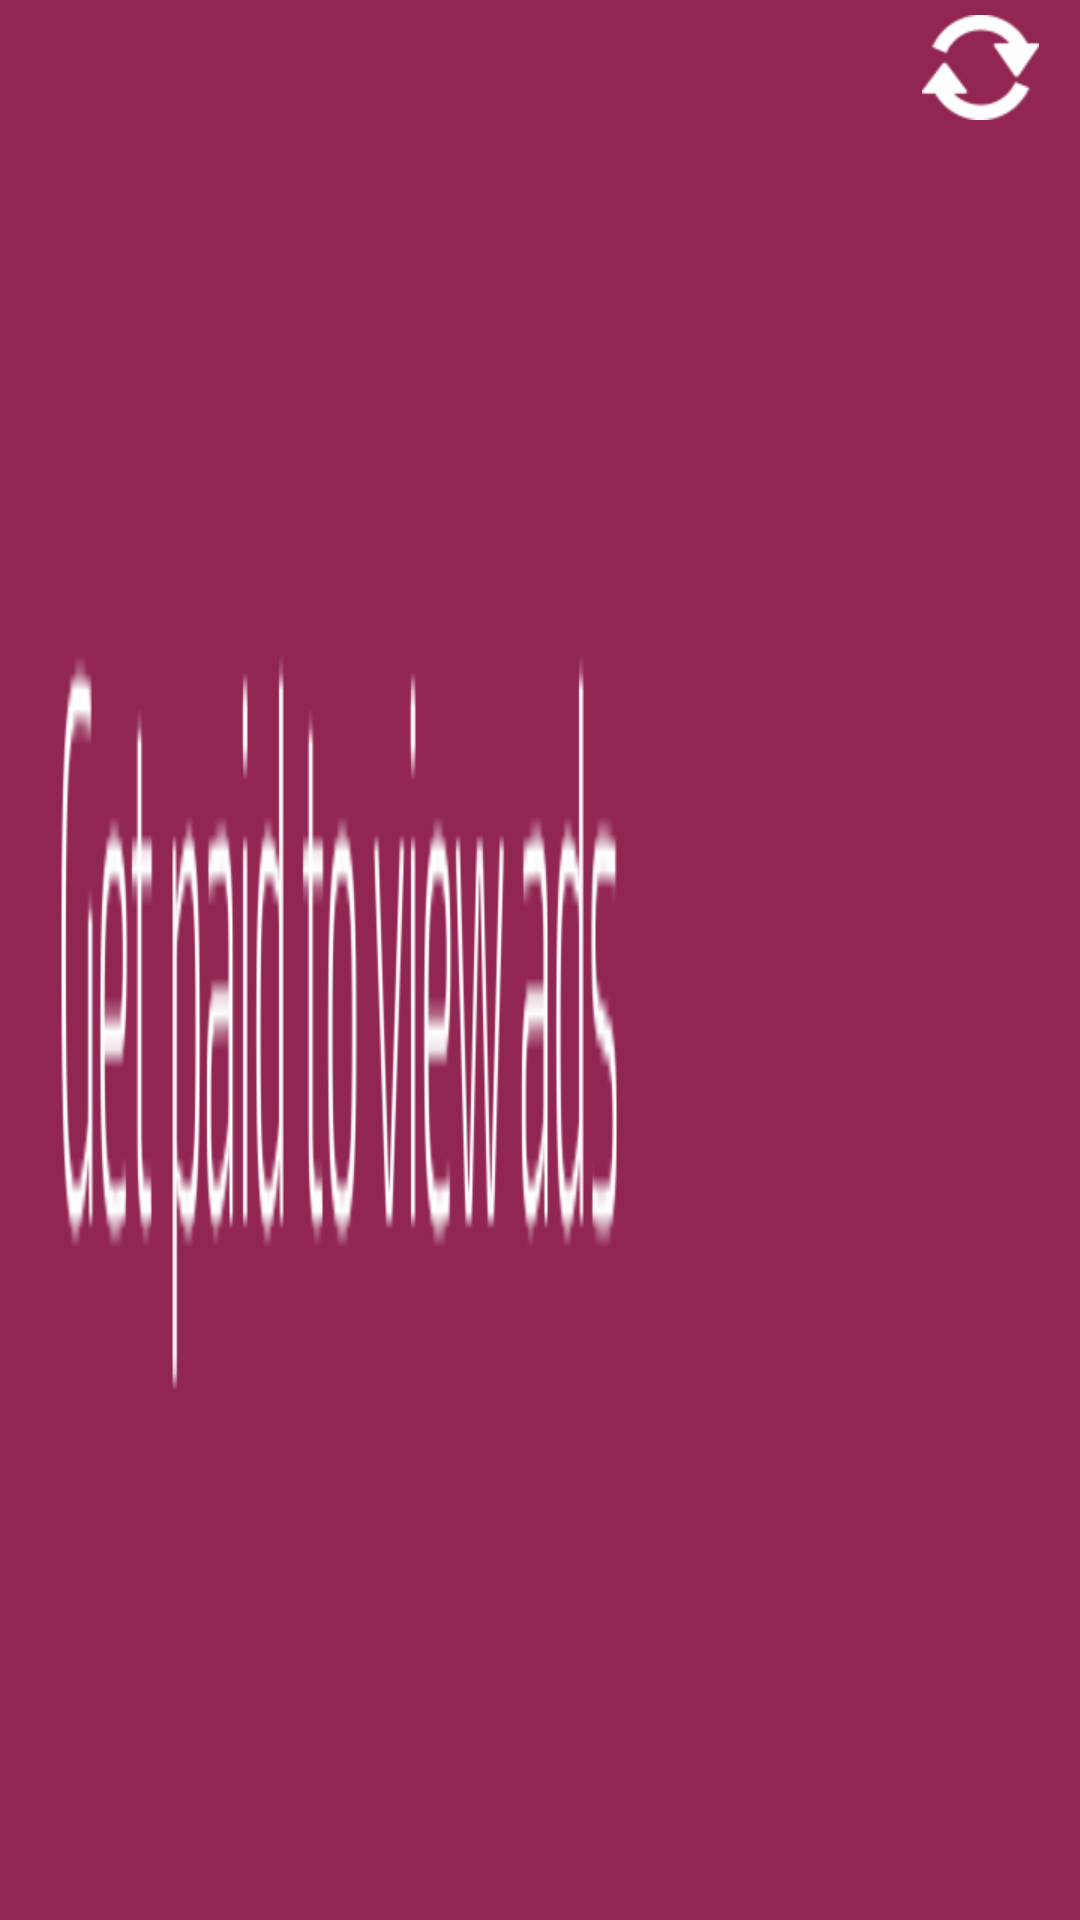

Icon click points for this 1080x1920 phone screenshot, format (x=x, y=y):
refresh: (x=980, y=67)
